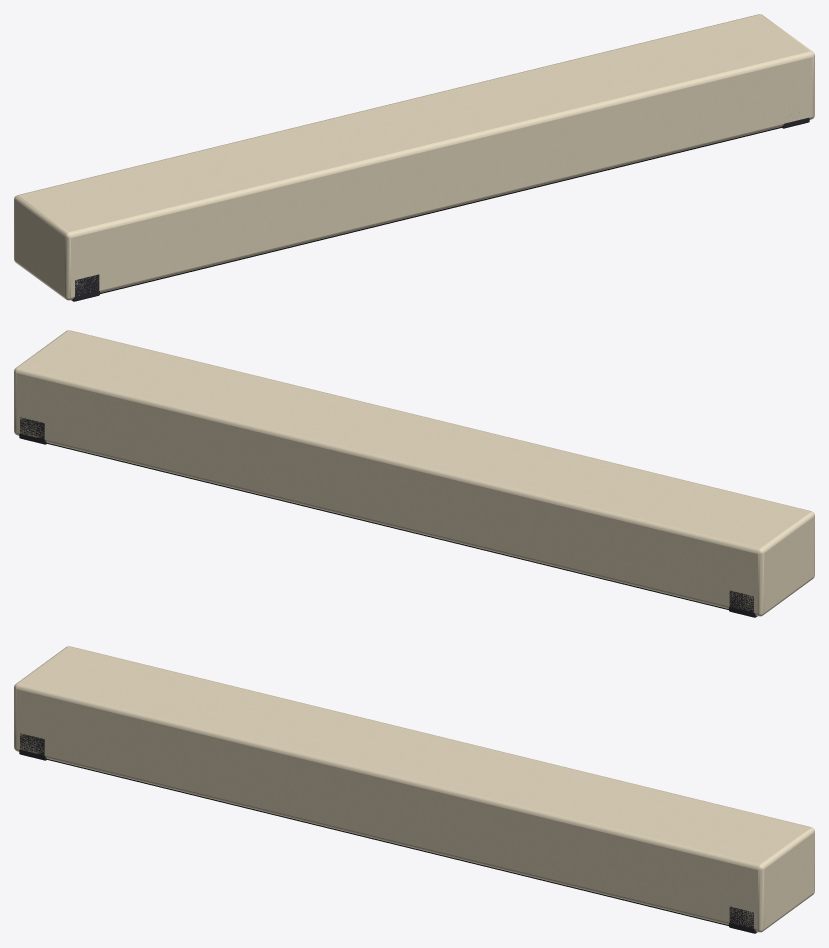
Rendered from 32_ceiling_strip_light.glb.
The picture shows the model from 3 angles, top to bottom: view 1: azimuth 30°, elevation 25°; view 2: azimuth 150°, elevation 25°; view 3: azimuth 330°, elevation 25°; orthographic projection.
Visible parts, largest first — view 1: 32_ceiling_strip_light__light_housing, 32_ceiling_strip_light__recessed_channel, 32_ceiling_strip_light__end_cap; view 2: 32_ceiling_strip_light__light_housing, 32_ceiling_strip_light__recessed_channel, 32_ceiling_strip_light__end_cap.001, 32_ceiling_strip_light__end_cap; view 3: 32_ceiling_strip_light__light_housing, 32_ceiling_strip_light__recessed_channel, 32_ceiling_strip_light__end_cap, 32_ceiling_strip_light__end_cap.001.
Part boxes in pixels (x1,y1,x2,y2): 32_ceiling_strip_light__light_housing: [14, 14, 814, 300]; 32_ceiling_strip_light__recessed_channel: [100, 127, 781, 293]; 32_ceiling_strip_light__end_cap: [71, 274, 100, 301]; 32_ceiling_strip_light__light_housing: [14, 330, 814, 616]; 32_ceiling_strip_light__recessed_channel: [47, 443, 728, 609]; 32_ceiling_strip_light__end_cap.001: [19, 417, 47, 444]; 32_ceiling_strip_light__end_cap: [728, 590, 757, 617]; 32_ceiling_strip_light__light_housing: [14, 646, 814, 932]; 32_ceiling_strip_light__recessed_channel: [47, 759, 728, 925]; 32_ceiling_strip_light__end_cap: [19, 733, 47, 760]; 32_ceiling_strip_light__end_cap.001: [728, 906, 757, 933].
Bounding box in the file's own units: 1.5 × 0.147 × 0.19.
5 materials, 5 textured.
